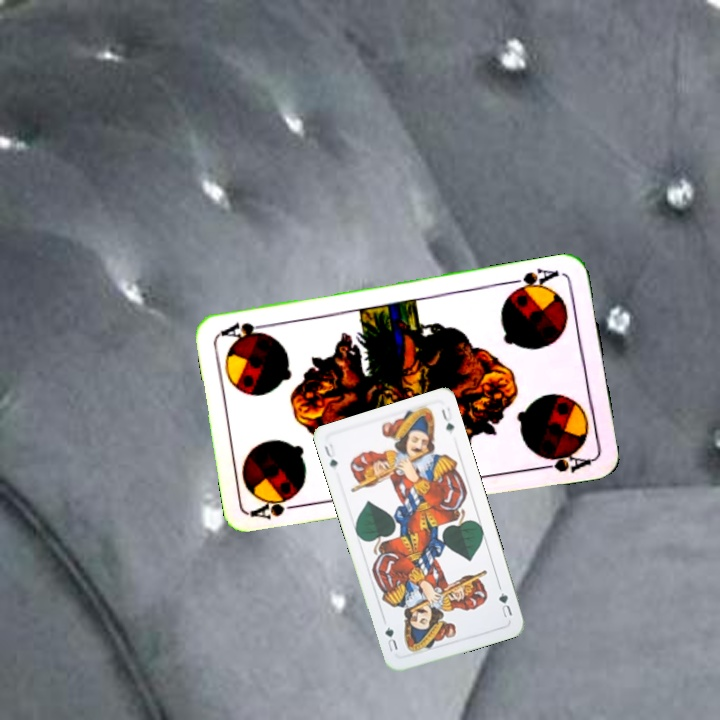GU: (494, 582, 515, 620), (320, 439, 340, 470)
SA: (504, 264, 561, 297), (248, 493, 307, 522)
